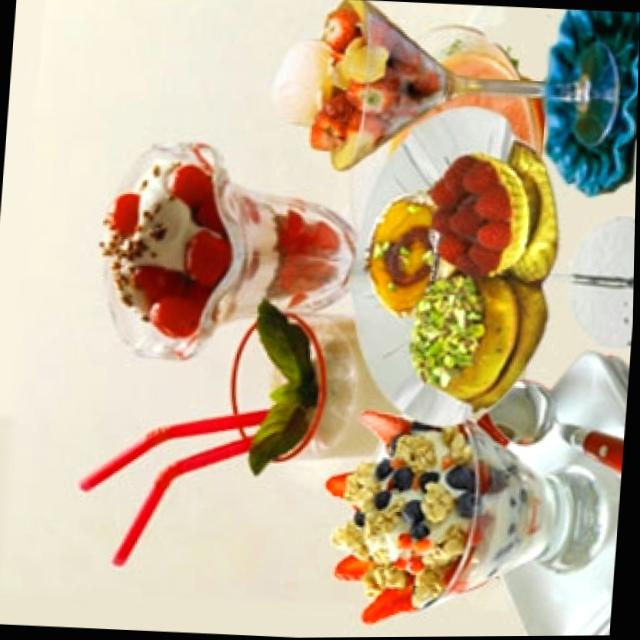蛋糕甜品: (27, 0, 637, 640)
